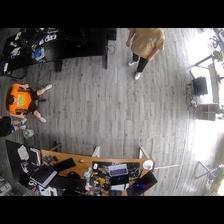normal: (125, 29, 165, 81), (7, 82, 54, 123)
